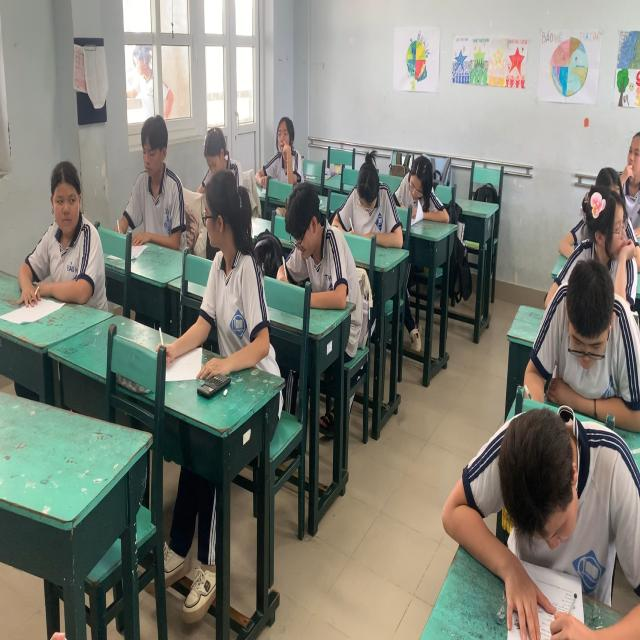cheating: (199, 178, 267, 371), (47, 150, 92, 289), (568, 184, 633, 260)
not_cheating: (475, 409, 607, 630), (546, 250, 630, 405), (131, 116, 186, 244), (281, 182, 337, 288), (349, 147, 392, 240), (399, 164, 440, 236), (265, 116, 300, 180), (191, 122, 236, 171)
